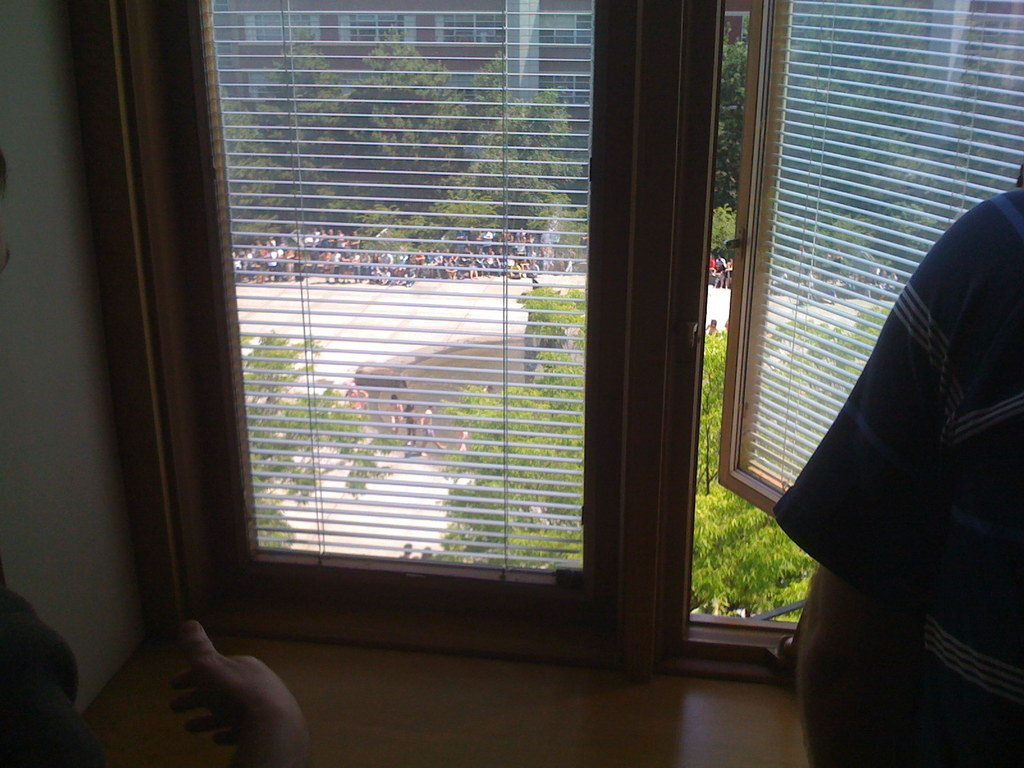Person: (0, 148, 312, 768), (229, 202, 591, 292), (321, 379, 472, 481), (708, 244, 908, 311)
